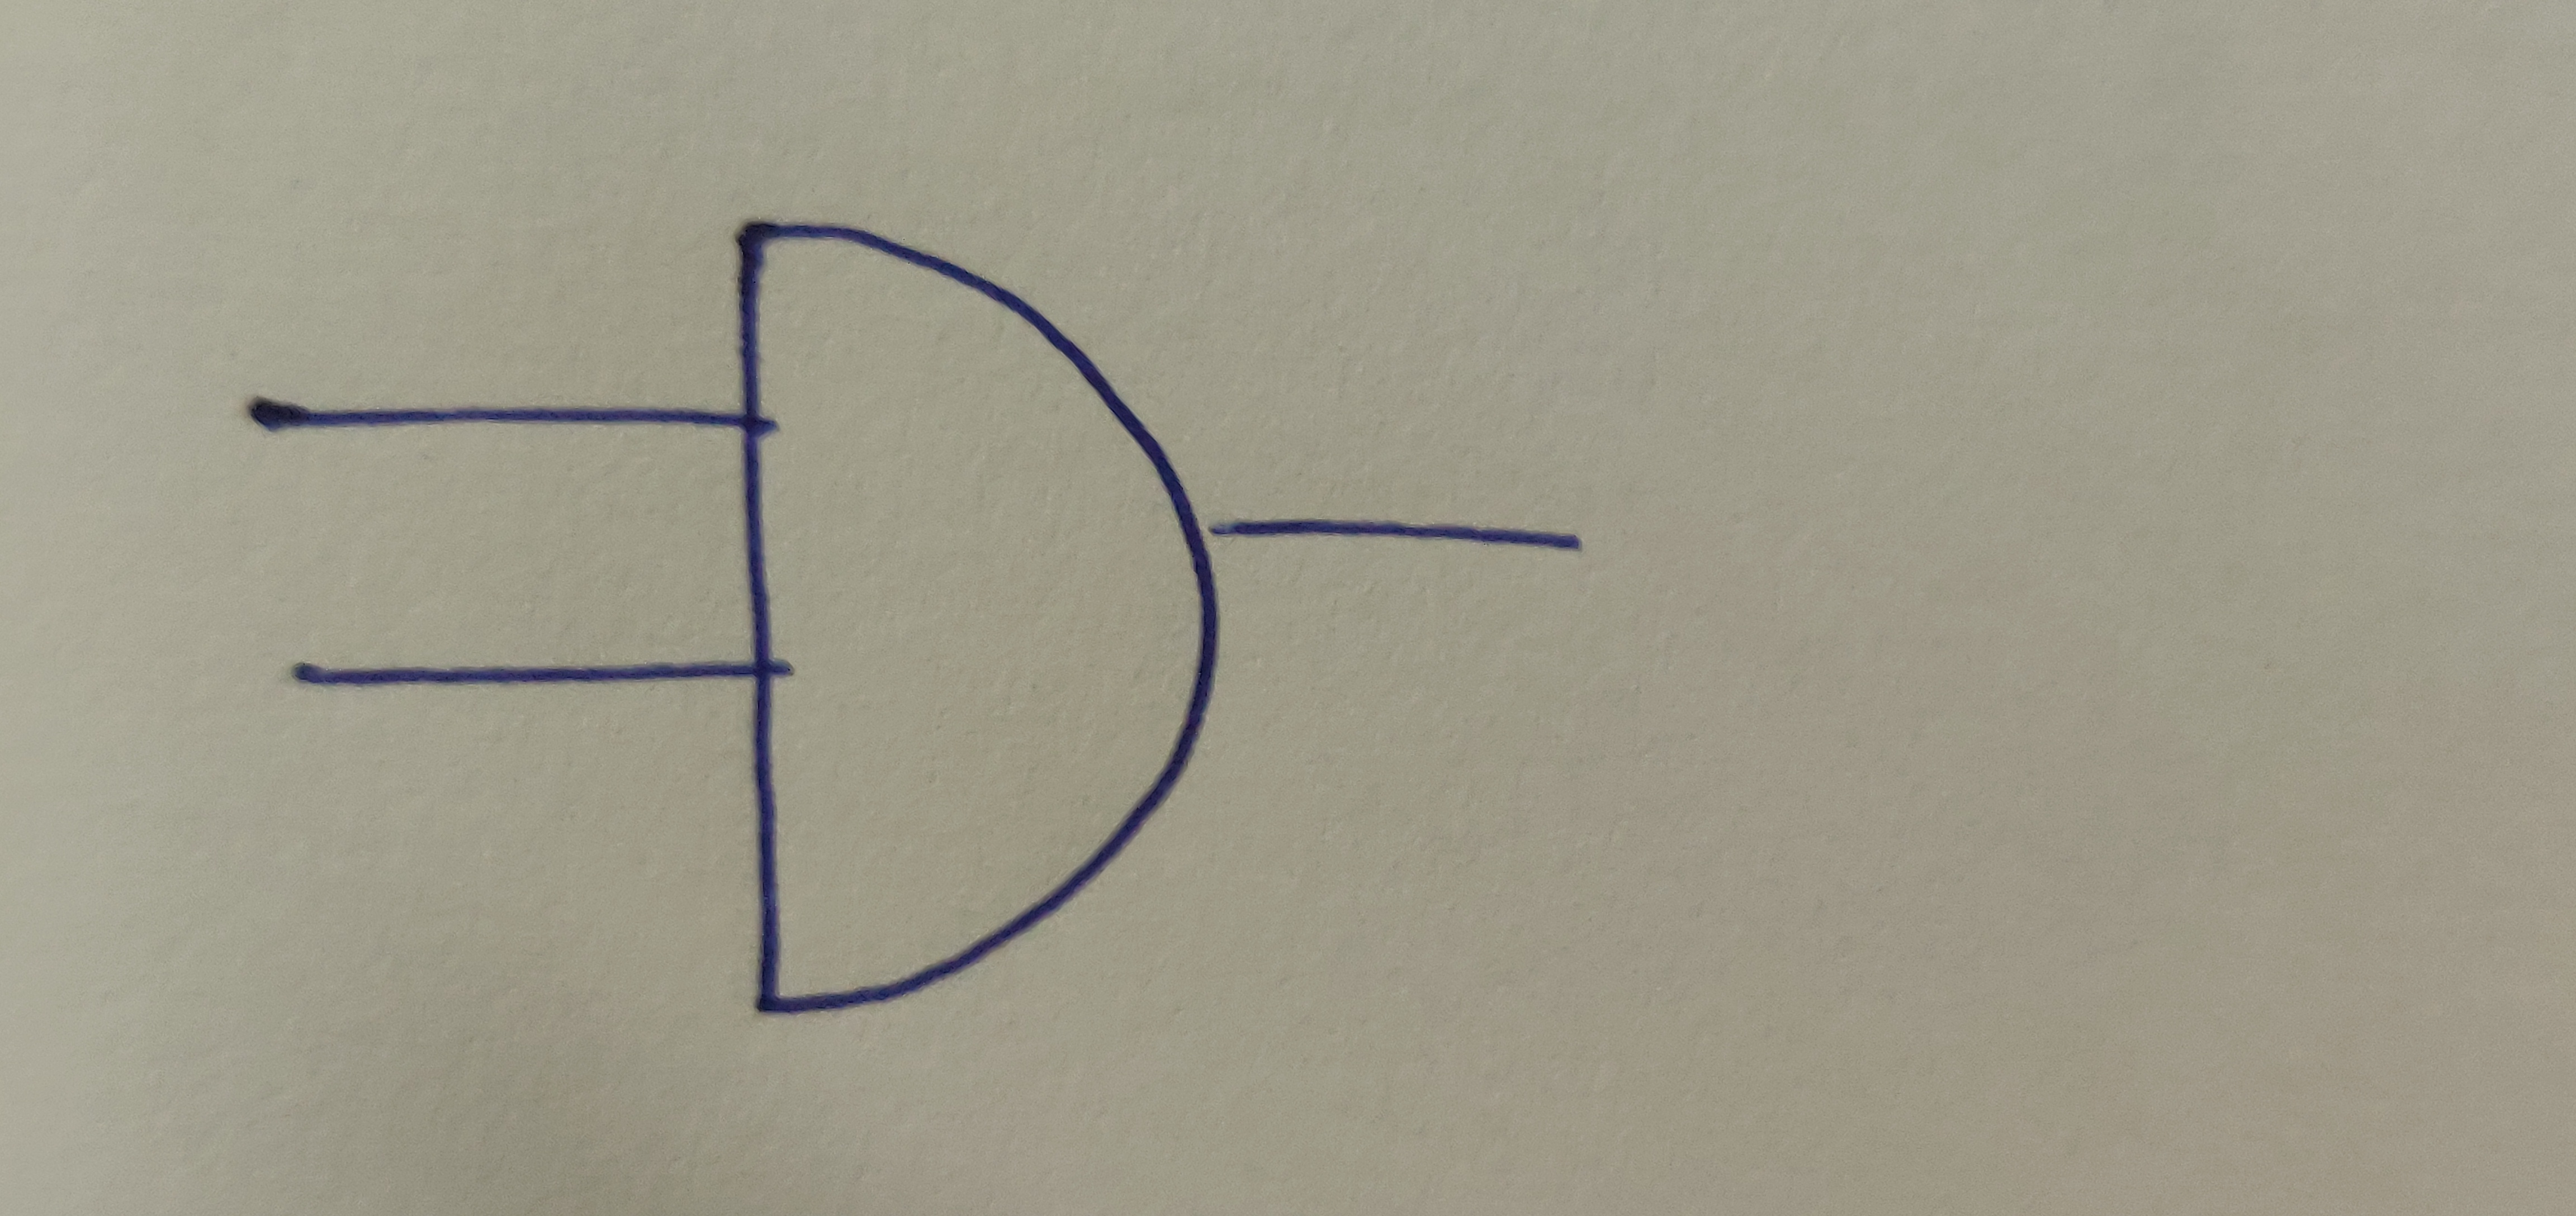and: (733, 215, 1231, 1022)
